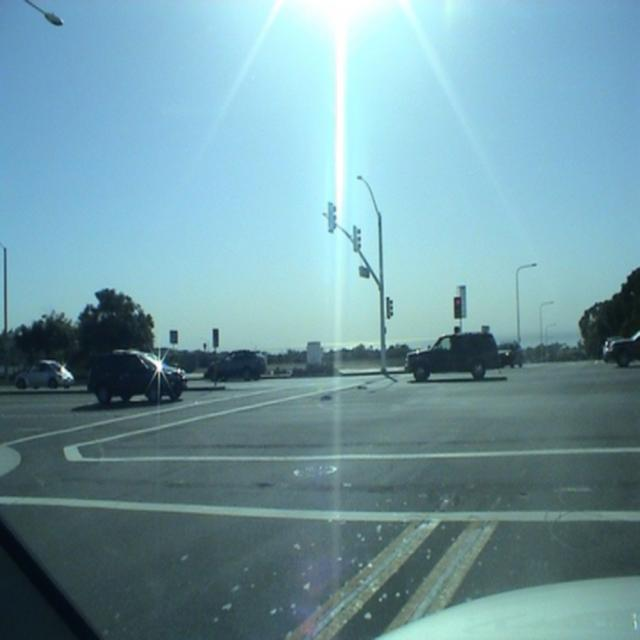car: (84, 346, 186, 403), (203, 345, 265, 377), (13, 357, 73, 387), (599, 328, 639, 363), (495, 336, 521, 367)
truck: (402, 331, 502, 382), (603, 330, 639, 366)
